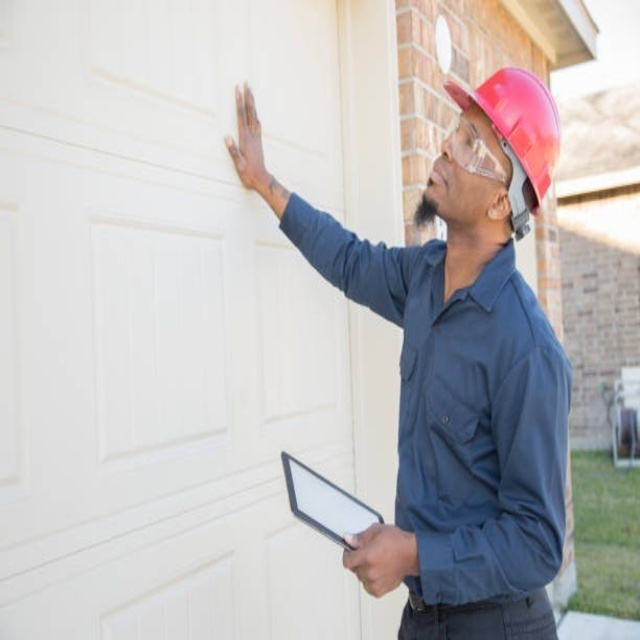Gafas: (447, 115, 509, 184)
Sin_guantes: (223, 81, 275, 201), (341, 522, 413, 598)
Sin_mascara: (424, 151, 451, 205)
